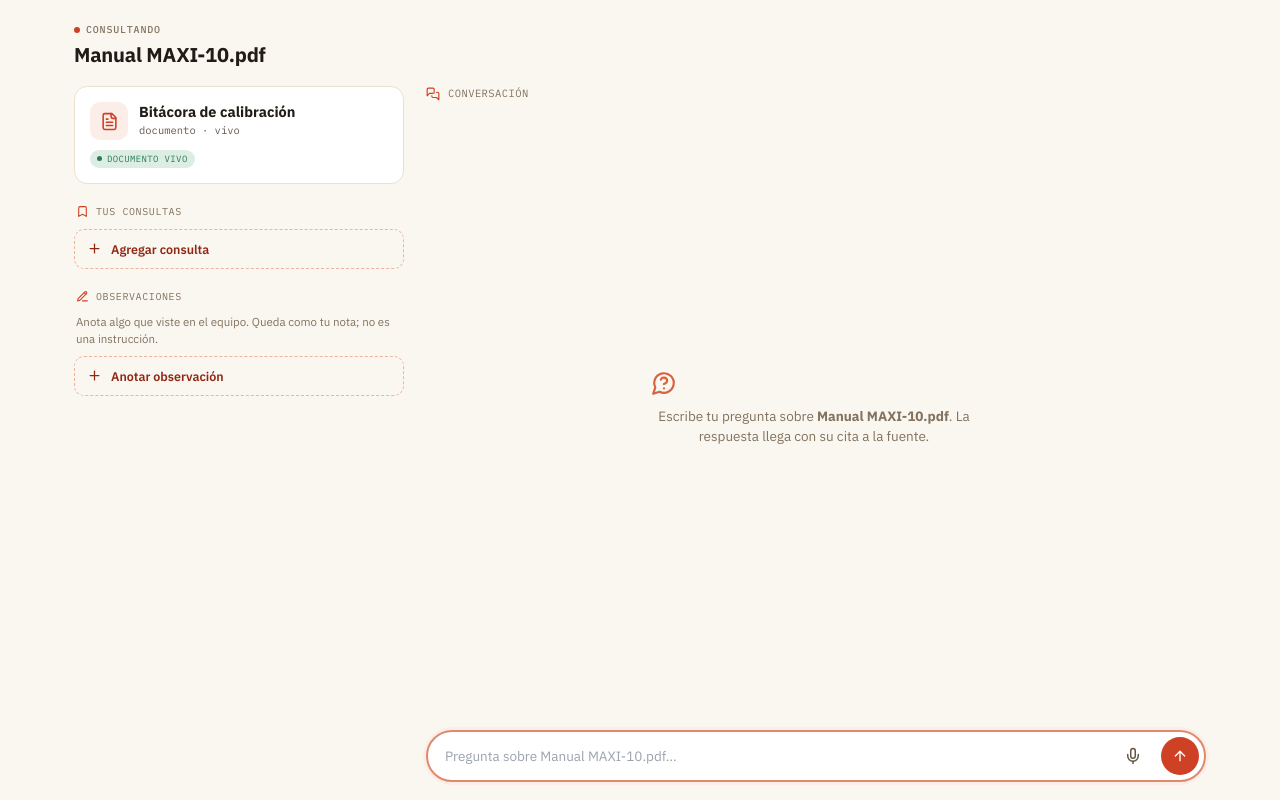
it: ConsultView — chip de procedencia = TIPO REAL del documento citado (PRIORIDAD 0 §4) › sin cita tipada cae al respaldo heurístico (comportamiento previo intacto)
Type "¿Qué lubricante usa?" into the field with placeholder "Pregunta sobre Manual MAXI-10.pdf…" at [775, 756], box [445, 746, 1105, 766]
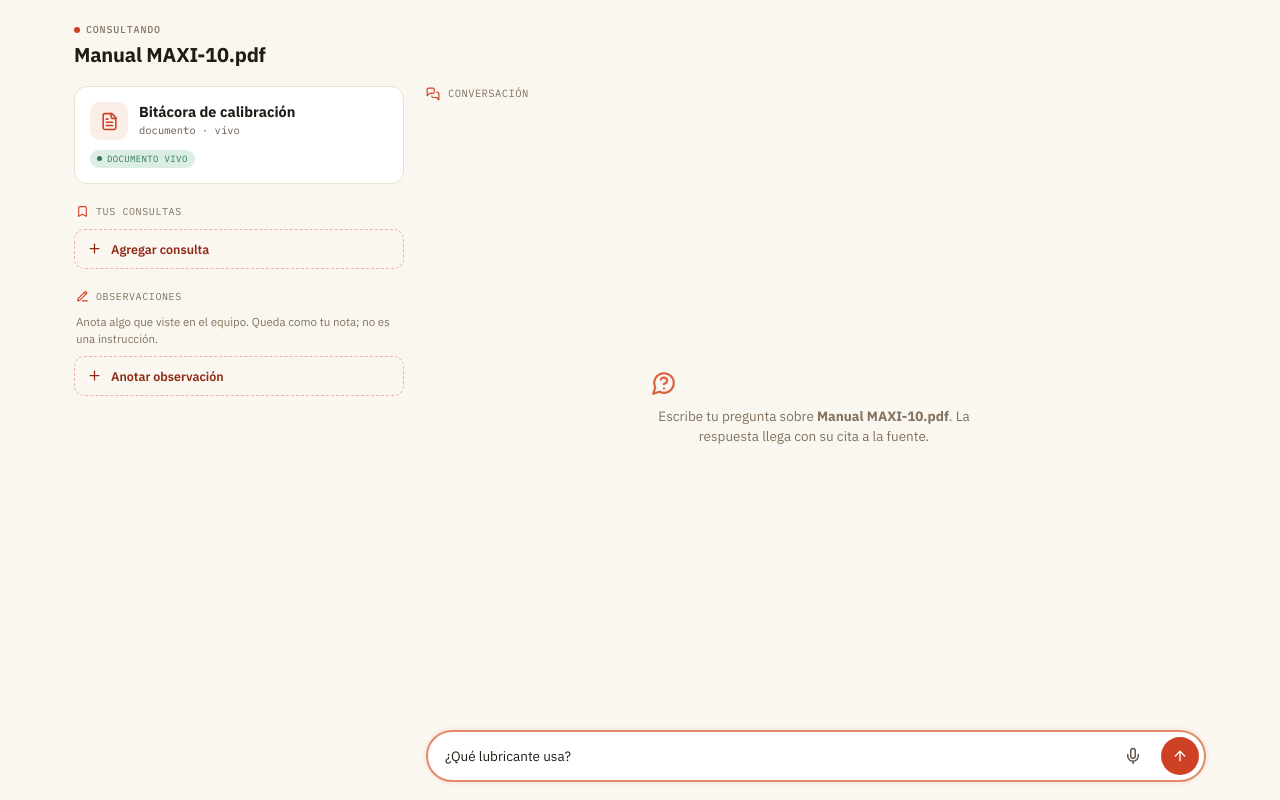
Submit the form with placeholder "Pregunta sobre", box [426, 730, 1206, 782]
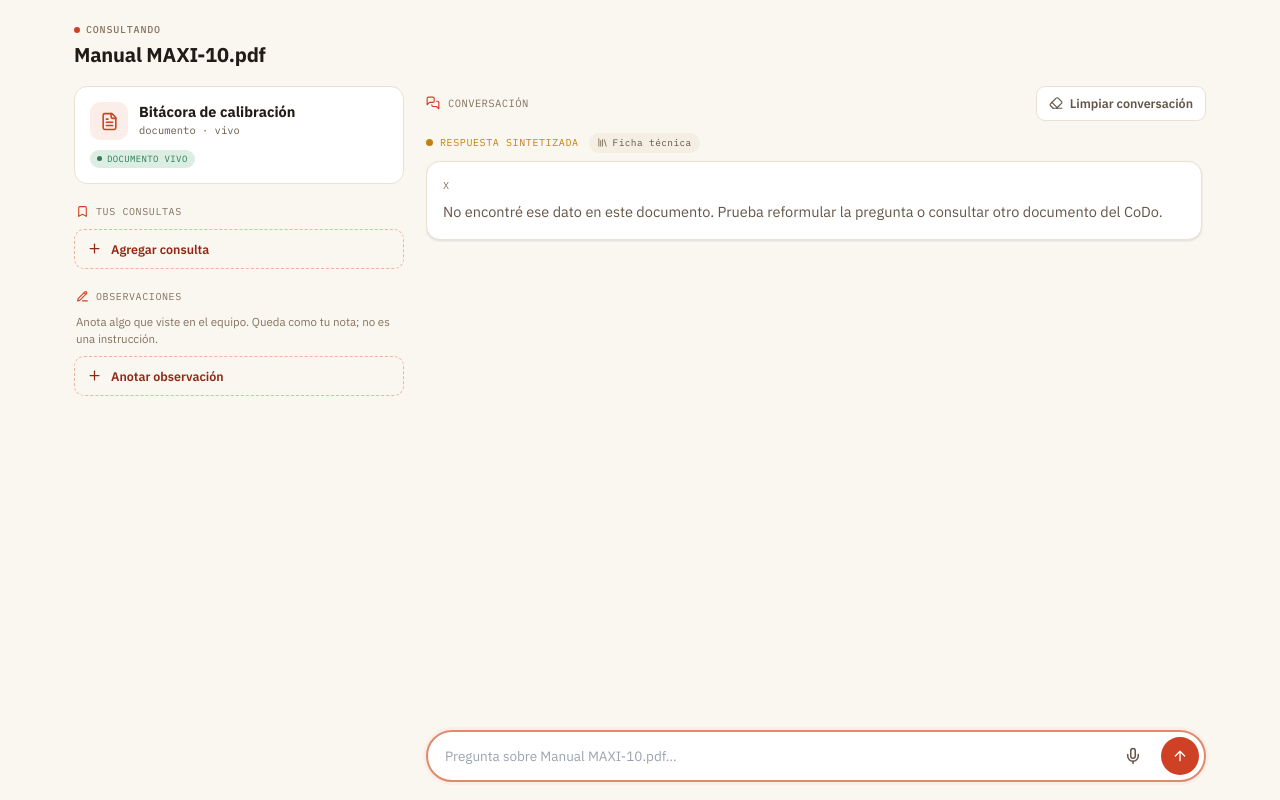
Check: the text "Ficha técnica" is shown, box [589, 133, 700, 153]
